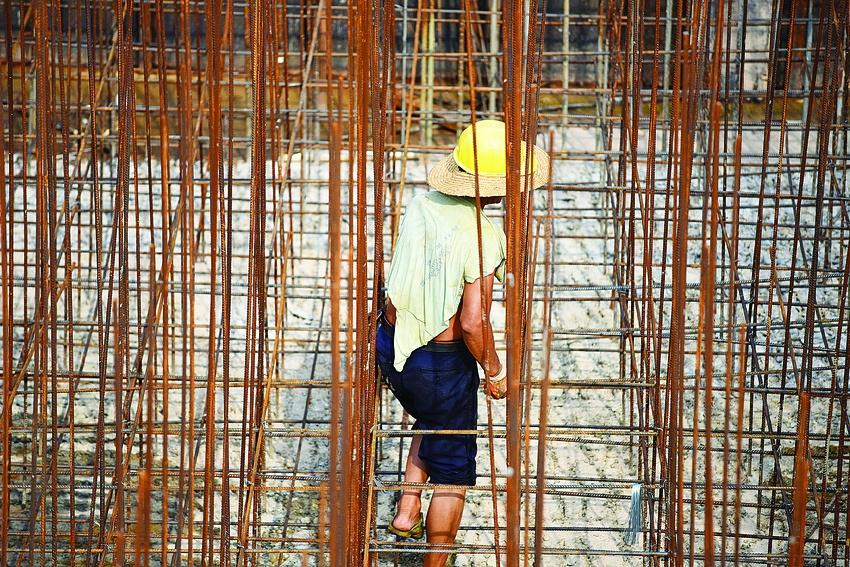helmet: (454, 118, 539, 178)
